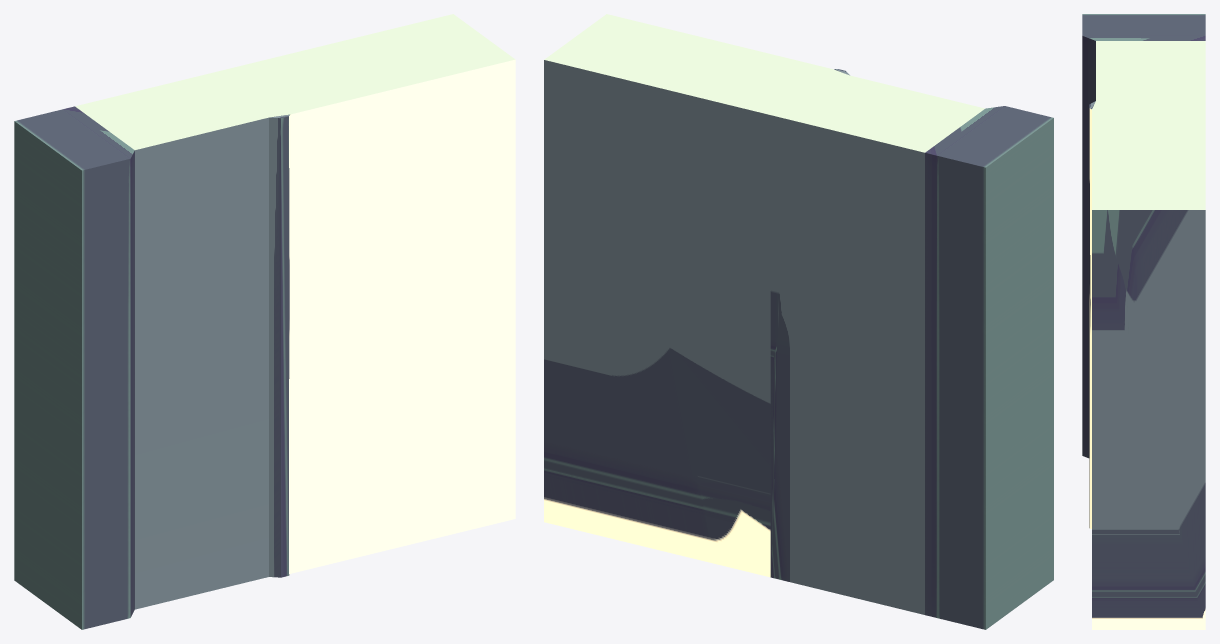
The model's file is celling1-2_low.fbx.
3 views of the same model, side by side, from view 1: azimuth 30°, elevation 25°; view 2: azimuth 150°, elevation 25°; view 3: azimuth 270°, elevation 25° (orthographic). The views are drawn at different scales.
Visible parts, largest first — view 1: celling1-2_low; view 2: celling1-2_low; view 3: celling1-2_low.
Part boxes in pixels (left/top/right/bottom): celling1-2_low: left=14, top=14, right=515, bottom=629; celling1-2_low: left=544, top=14, right=1053, bottom=629; celling1-2_low: left=1082, top=14, right=1205, bottom=629.
Bounding box in the file's own units: 150 × 150 × 40.
